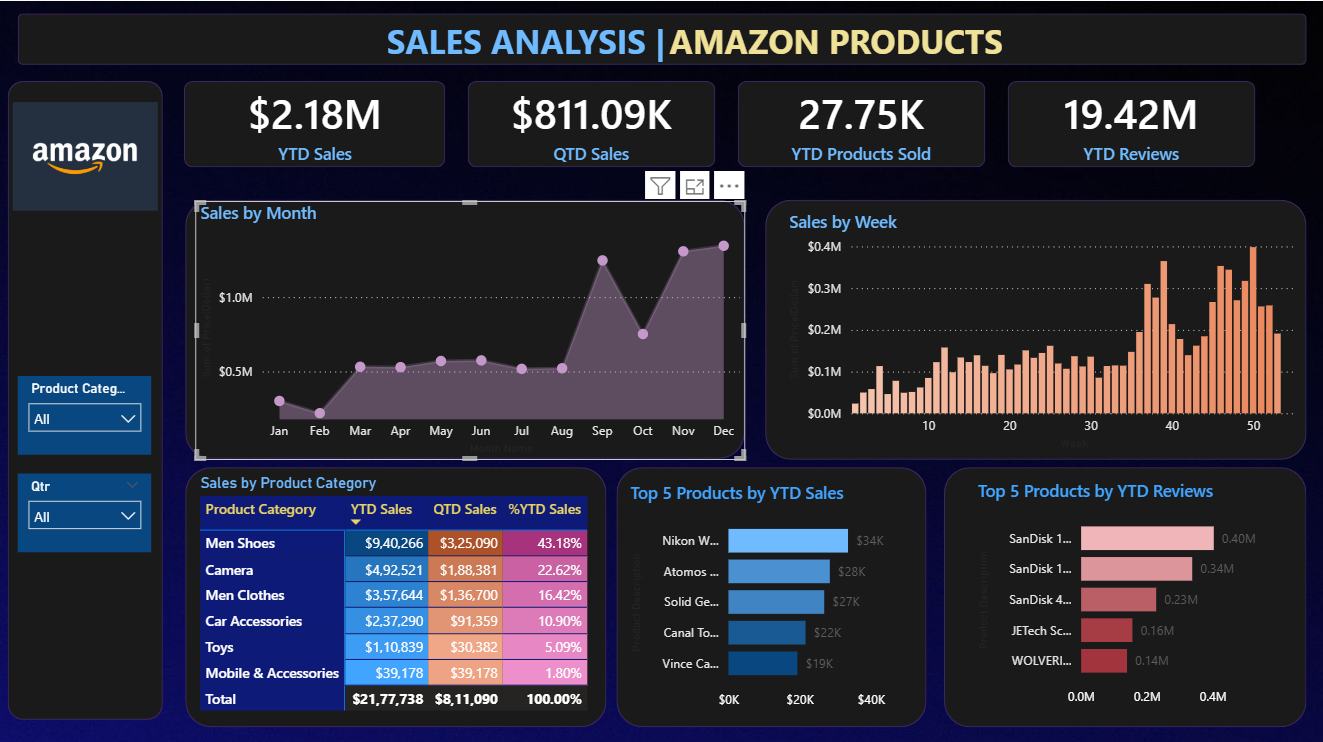

This screenshot's page, from the dashboard's own definition file:
{"tool":"powerbi","page":{"name":"Page 1","canvas":[1280,720],"ordinal":0},"visuals":[{"type":"shape","box":[178.6,77.2,252.1,83.2],"z":0,"group":"g1"},{"type":"shape","box":[18.1,12.1,1243.8,49.5],"z":0},{"type":"card","fields":{"Values":["Amazon_Data.YTD Sales"]},"box":[179.8,77.2,250.9,83.2],"z":1000,"group":"g1"},{"type":"shape","box":[8.4,77.2,149.6,616.5],"z":1000},{"type":"shape","box":[452.5,77.2,238.9,83.2],"z":2000,"group":"g1"},{"type":"textbox","box":[369.2,12.1,612.9,65.1],"z":2000},{"type":"shape","box":[713.1,77.2,238.9,83.2],"z":3000,"group":"g1"},{"type":"group","id":"g1","title":"Group 1","box":[178.6,77.2,1033.9,83.2],"z":3000},{"type":"shape","box":[973.6,77.2,238.9,83.2],"z":4000,"group":"g1"},{"type":"shape","box":[179.8,191.8,540,250],"z":4000},{"type":"card","fields":{"Values":["Amazon_Data.QTD Sales"]},"box":[452.5,77.2,238.9,83.2],"z":5000,"group":"g1"},{"type":"areaChart","title":"Sales by Month ","fields":{"Category":["Date Table.Month Name"],"Y":["Sum(Amazon_Data.Price(Dollar))"]},"box":[189.4,193,530.8,249.7],"z":5000},{"type":"card","fields":{"Values":["Amazon_Data.YTD Products Sold"]},"box":[713.1,77.2,238.9,83.2],"z":6000,"group":"g1"},{"type":"shape","box":[739.5,191.8,522.4,250.9],"z":6000},{"type":"card","fields":{"Values":["Amazon_Data.YTD Reviews"]},"box":[973.6,77.2,238.9,83.2],"z":7000,"group":"g1"},{"type":"columnChart","title":"Sales by Week","fields":{"Category":["Date Table.Week"],"Y":["Sum(Amazon_Data.Price(Dollar))"]},"box":[757.6,201.5,504.3,236.5],"z":7000},{"type":"shape","box":[179.8,450,406.6,250.9],"z":8000},{"type":"pivotTable","title":"Sales by Product Category","fields":{"Rows":["Amazon_Data.Product Category"],"Values":["Amazon_Data.YTD Sales1","Amazon_Data.QTD Sales","Amazon_Data.YTD Sales"]},"box":[189.4,456,415,237.7],"z":9000},{"type":"shape","box":[596,450,299.2,250.9],"z":10000},{"type":"shape","box":[912.1,450,349.9,250.9],"z":11000},{"type":"clusteredBarChart","title":"Top 5 Products by YTD Sales","fields":{"Category":["Amazon_Data.Product Description"],"Y":["Amazon_Data.YTD Sales"]},"box":[604.4,463.3,277.5,229.2],"z":12000},{"type":"clusteredBarChart","title":"Top 5 Products by YTD Reviews","fields":{"Category":["Amazon_Data.Product Description"],"Y":["Amazon_Data.YTD Reviews"]},"box":[939.8,460.9,296.8,229.2],"z":13000},{"type":"slicer","fields":{"Values":["Amazon_Data.Product Category"]},"box":[18.1,361.9,129.1,76],"z":14000},{"type":"slicer","fields":{"Values":["Date Table.Qtr"]},"box":[18.1,456,129.1,76],"z":15000},{"type":"image","box":[8.4,0,149.6,300.4],"z":16000}]}

Visuals, with their boxes in screenshot pixels (x1, y1, x2, y2), scaled from the page's 1280x720 canvas onto the 1323x742 screenshot:
shape: [left=185, top=80, right=445, bottom=165]
shape: [left=19, top=12, right=1304, bottom=63]
card - Amazon_Data.YTD Sales: [left=186, top=80, right=445, bottom=165]
shape: [left=9, top=80, right=163, bottom=715]
shape: [left=468, top=80, right=715, bottom=165]
textbox: [left=382, top=12, right=1015, bottom=80]
shape: [left=737, top=80, right=984, bottom=165]
"Group 1" group: [left=185, top=80, right=1253, bottom=165]
shape: [left=1006, top=80, right=1253, bottom=165]
shape: [left=186, top=198, right=744, bottom=455]
card - Amazon_Data.QTD Sales: [left=468, top=80, right=715, bottom=165]
"Sales by Month " areaChart: [left=196, top=199, right=744, bottom=456]
card - Amazon_Data.YTD Products Sold: [left=737, top=80, right=984, bottom=165]
shape: [left=764, top=198, right=1304, bottom=456]
card - Amazon_Data.YTD Reviews: [left=1006, top=80, right=1253, bottom=165]
"Sales by Week" columnChart: [left=783, top=208, right=1304, bottom=451]
shape: [left=186, top=464, right=606, bottom=722]
"Sales by Product Category" pivotTable: [left=196, top=470, right=625, bottom=715]
shape: [left=616, top=464, right=925, bottom=722]
shape: [left=943, top=464, right=1304, bottom=722]
"Top 5 Products by YTD Sales" clusteredBarChart: [left=625, top=477, right=912, bottom=714]
"Top 5 Products by YTD Reviews" clusteredBarChart: [left=971, top=475, right=1278, bottom=711]
slicer - Amazon_Data.Product Category: [left=19, top=373, right=152, bottom=451]
slicer - Date Table.Qtr: [left=19, top=470, right=152, bottom=548]
image: [left=9, top=0, right=163, bottom=310]
